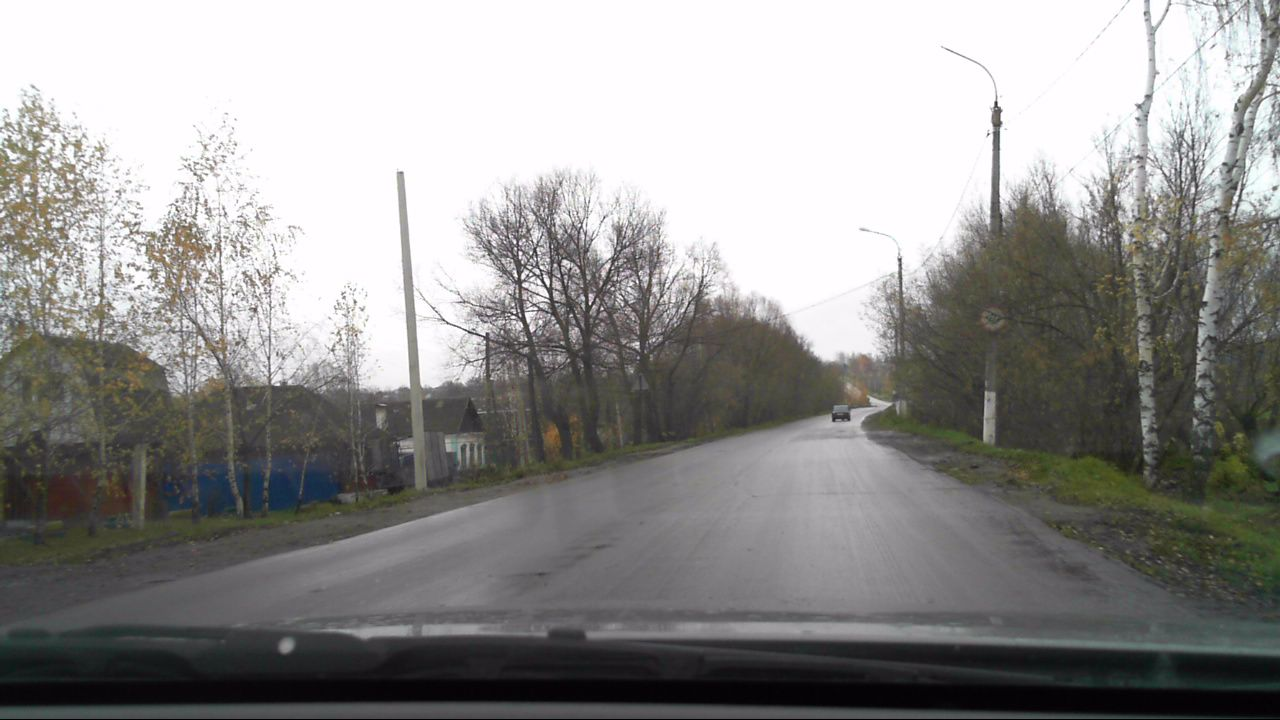speed_warning_40: (978, 305, 1007, 335)
